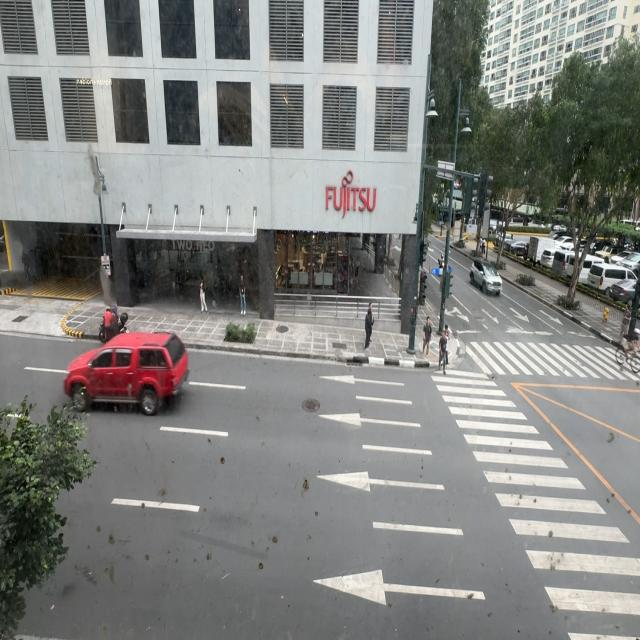crossing: (439, 328, 449, 376)
pedestrain: (364, 302, 374, 350), (422, 316, 432, 358), (239, 273, 247, 316), (200, 281, 208, 314)
waiting: (616, 303, 632, 354)
